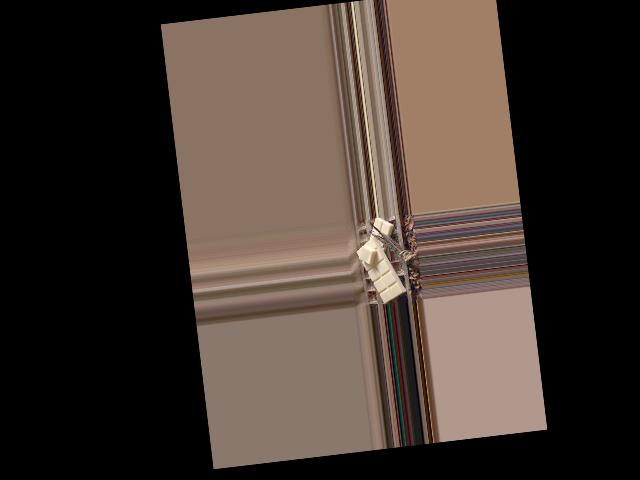chocolate: (355, 232, 405, 305)
